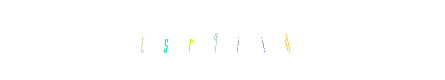9: (173, 0, 253, 80)
D: (238, 0, 318, 80)
I: (182, 0, 262, 80), (223, 0, 303, 80)
R: (150, 0, 230, 80)
S: (131, 0, 211, 80)
T: (125, 0, 205, 80)
